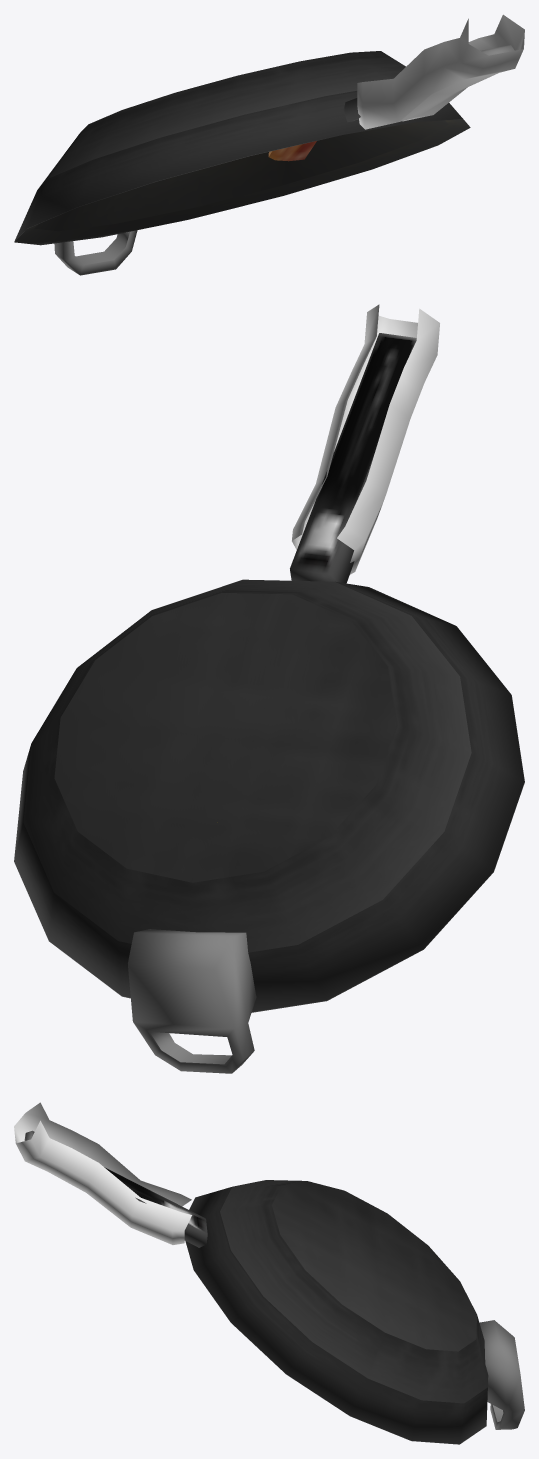
File: C_WokPan_EggsBacon.fbx
The picture shows the model from 3 angles, top to bottom: view 1: azimuth 30°, elevation 25°; view 2: azimuth 150°, elevation 25°; view 3: azimuth 270°, elevation 25°; orthographic projection. The views are drawn at different scales.
Visible parts, largest first — view 1: FriedEgg_Bacon; view 2: FriedEgg_Bacon; view 3: FriedEgg_Bacon.
Boxes of the visible parts, left/top/right/bottom form: FriedEgg_Bacon: left=14, top=14, right=524, bottom=275; FriedEgg_Bacon: left=14, top=304, right=524, bottom=1073; FriedEgg_Bacon: left=14, top=1102, right=524, bottom=1444.
Size of the model in its own units: 59.15 by 59.77 by 76.99.
